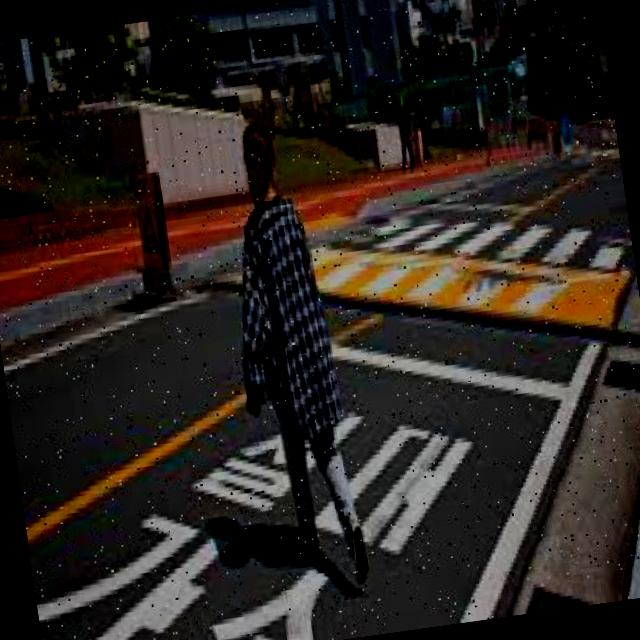Person: (219, 118, 372, 592)
